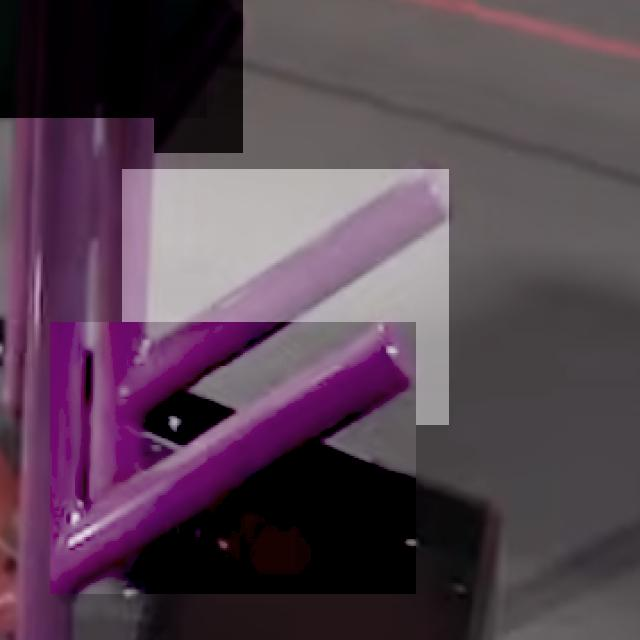Algae: (0, 0, 207, 118)
Reef: (50, 322, 416, 594), (122, 169, 449, 425), (154, 0, 243, 153)
